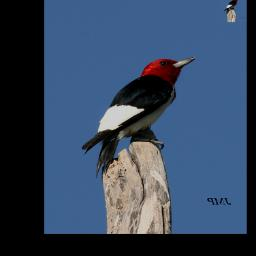Woodpecker: (77, 56, 200, 179)
